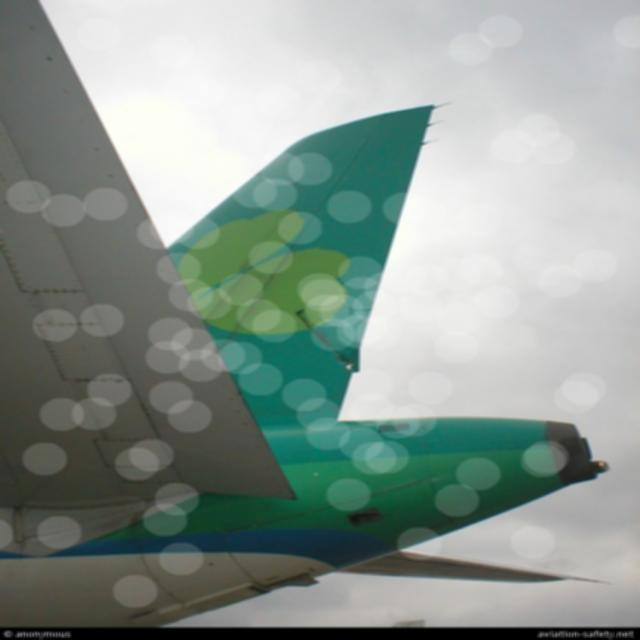crack: (287, 308, 367, 377)
